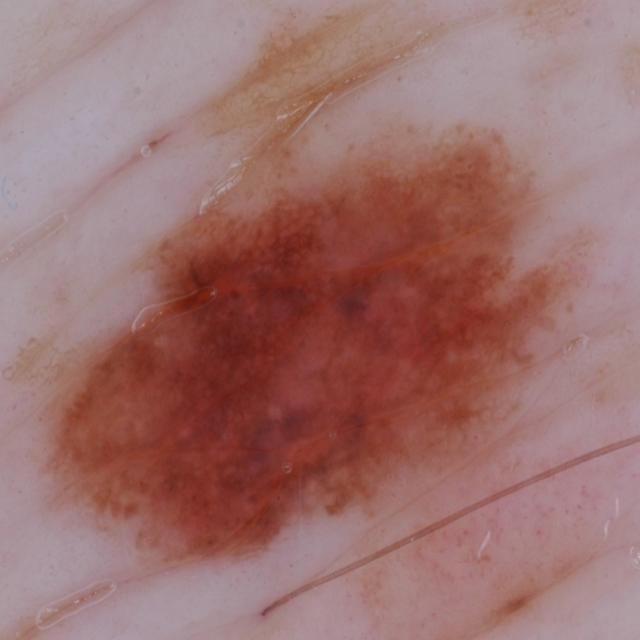Skin-Cancer Nevus: (41, 7, 640, 640)
